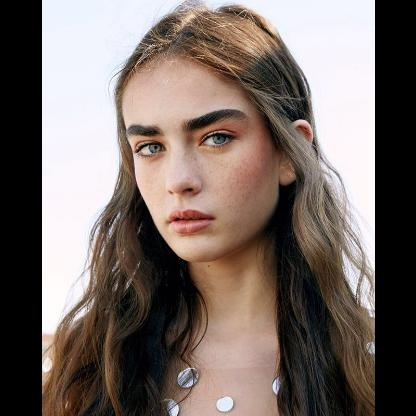Female: (119, 52, 313, 262)
